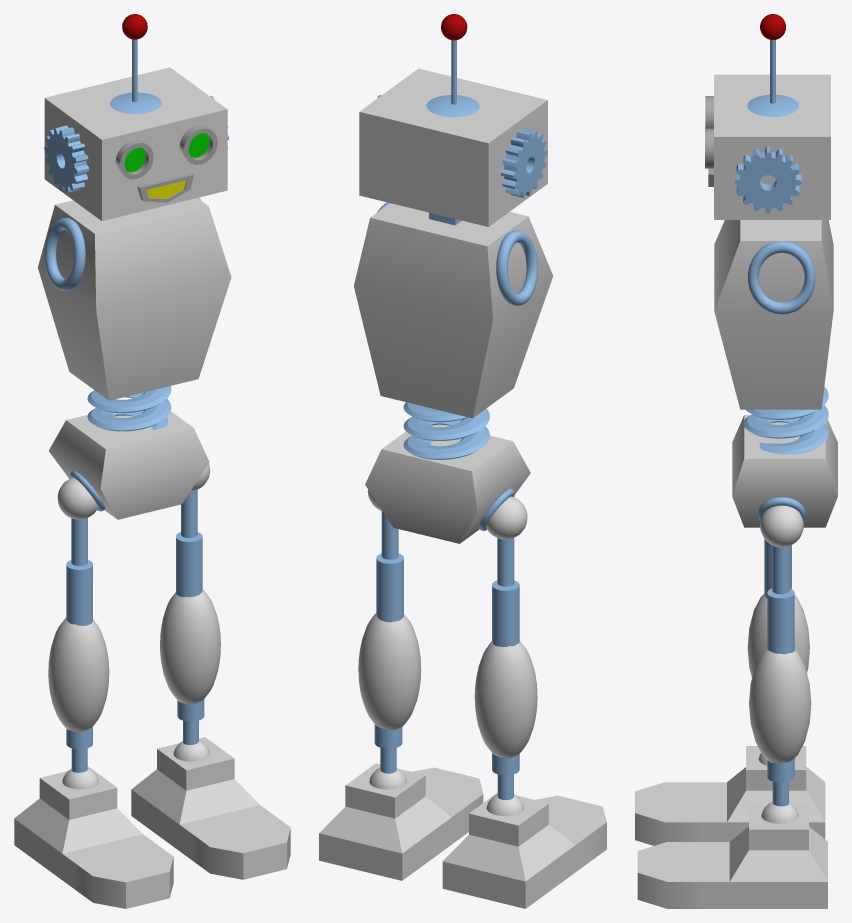
The model's file is DetaNoArm.fbx.
3 views of the same model, side by side, from view 1: azimuth 30°, elevation 25°; view 2: azimuth 150°, elevation 25°; view 3: azimuth 270°, elevation 25° (orthographic). The views are drawn at different scales.
Parts seen in each view (by area): view 1: DetaBody, DetaRightLeg, DetaLeftLeg, DetaHead; view 2: DetaBody, DetaHead, DetaRightLeg, DetaLeftLeg; view 3: DetaBody, DetaLeftLeg, DetaHead, DetaRightLeg.
Part boxes in pixels (bbox=[...]): DetaBody: bbox=[37, 197, 231, 519]; DetaRightLeg: bbox=[14, 478, 173, 908]; DetaLeftLeg: bbox=[131, 464, 290, 879]; DetaHead: bbox=[44, 14, 228, 220]; DetaBody: bbox=[354, 202, 553, 543]; DetaHead: bbox=[359, 14, 547, 226]; DetaRightLeg: bbox=[442, 496, 606, 908]; DetaLeftLeg: bbox=[319, 490, 483, 880]; DetaBody: bbox=[714, 220, 837, 527]; DetaLeftLeg: bbox=[637, 505, 827, 908]; DetaHead: bbox=[705, 14, 830, 219]; DetaRightLeg: bbox=[635, 539, 825, 845].
Bounding box in the file's own units: 1.06 × 4.19 × 0.916.
